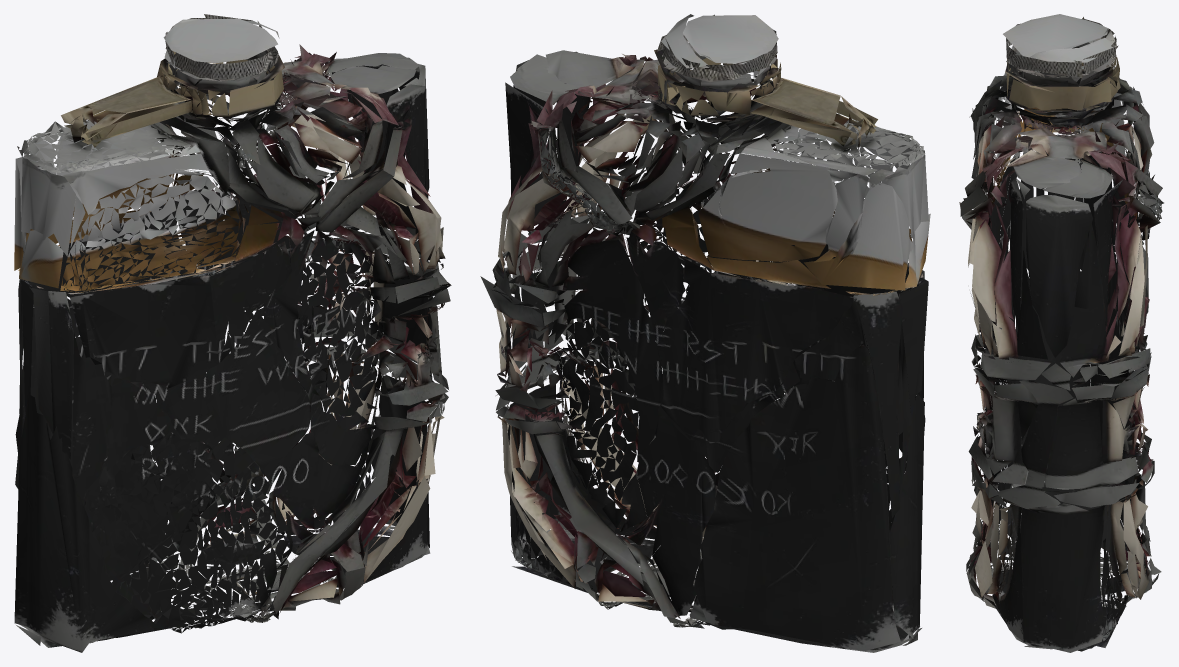
Rendered from drop_black_flask.glb.
The picture shows the model from 3 angles, left to right: view 1: azimuth 30°, elevation 25°; view 2: azimuth 150°, elevation 25°; view 3: azimuth 270°, elevation 25°; orthographic projection. The views are drawn at different scales.
Parts seen in each view (by area): view 1: node_0; view 2: node_0; view 3: node_0.
Boxes of the visible parts, <box> form: node_0: <box>14,14,451,652</box>; node_0: <box>480,14,930,652</box>; node_0: <box>959,14,1163,652</box>.
Size of the model in its own units: 0.7514 by 1 by 0.344.
1 material, 1 textured.
